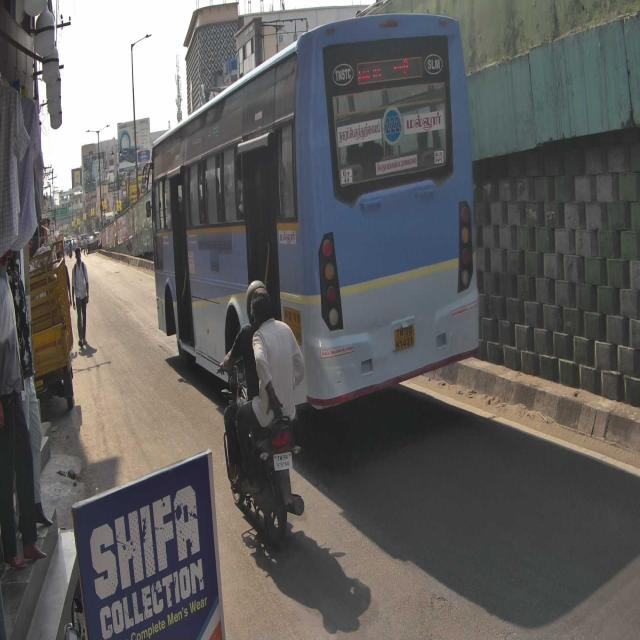double_rider: (215, 275, 306, 548)
